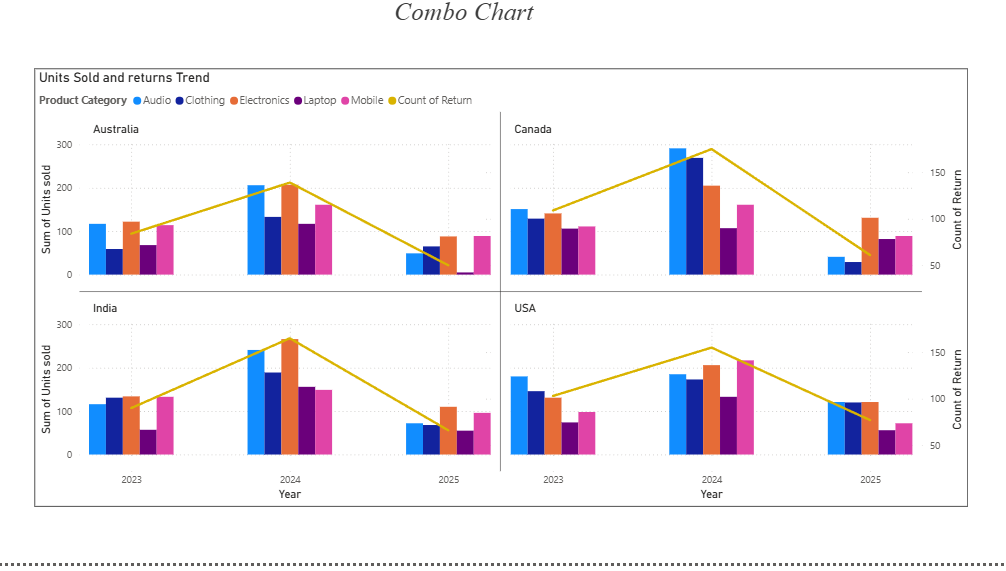

The dashboard page shown, as its layout file describes it:
{"tool":"powerbi","page":{"name":"Combo Chart 2","canvas":[1280,720],"ordinal":8},"visuals":[{"type":"textbox","box":[408,0,360,48],"z":0},{"type":"lineClusteredColumnComboChart","title":"Units Sold and returns Trend","fields":{"Category":["Sales_Transactions.Date.Variation.Date Hierarchy.Year"],"Rows":["Customer_Info.Country"],"Series":["Sales_Transactions.Product Category"],"Y":["Sum(Sales_Transactions.Units Sold)"],"Y2":["Sales_Transactions.Count of Return"]},"box":[48,96,1176,552],"z":1}]}

Visuals, with their boxes in screenshot pixels (x1, y1, x2, y2), scaled from the page's 1280x720 canvas onto the 1006x571 screenshot:
textbox: x1=321 y1=0 x2=604 y2=38
"Units Sold and returns Trend" lineClusteredColumnComboChart: x1=38 y1=76 x2=962 y2=514
